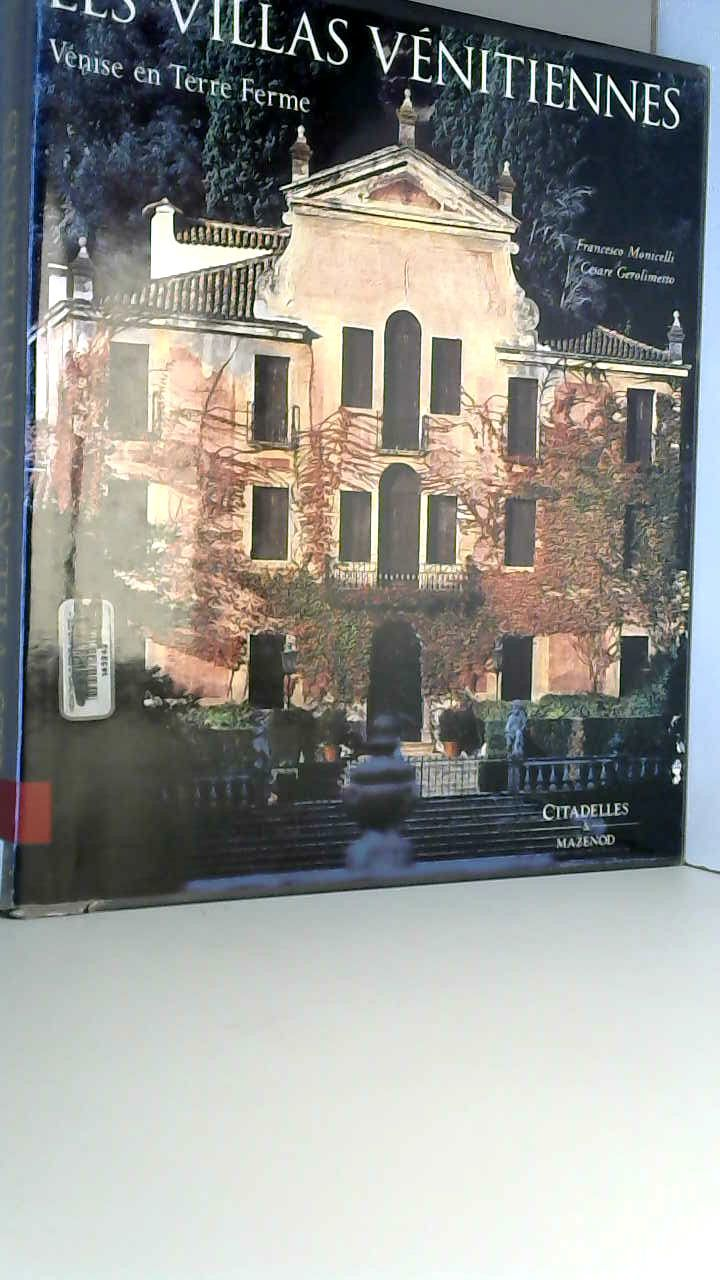book: (0, 0, 718, 940)
